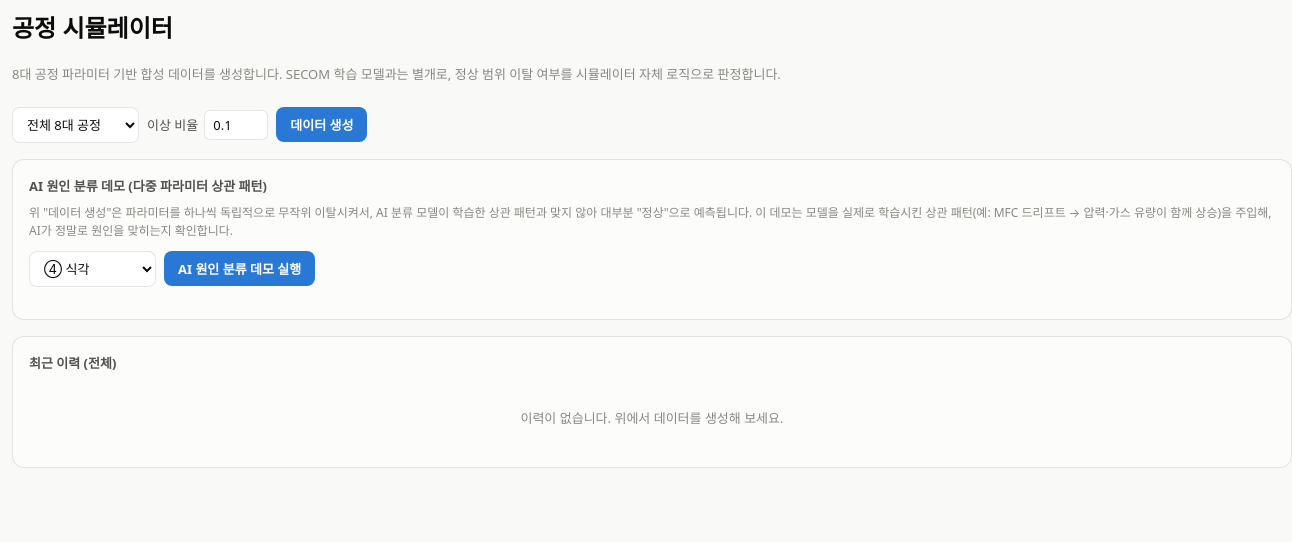
Test: Simulator page › shows an error banner when the fault-demo model is unavailable
The image size is (1292, 542).
Click the button "AI 원인 분류 데모 실행": (240, 269) [164,251,315,286]
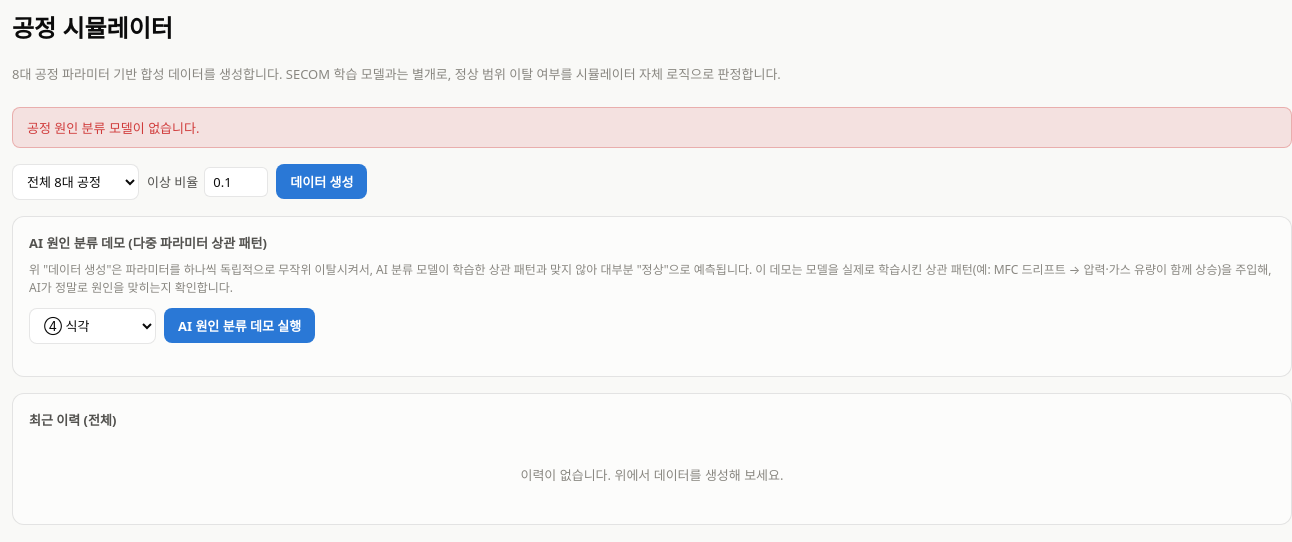
Check: the text "공정 원인 분류 모델이 없습니다." is shown, box [12,107,1291,148]
